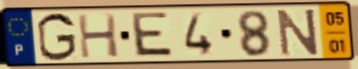4: (183, 12, 215, 57)
8: (234, 8, 272, 58)
E: (131, 11, 176, 60)
G: (35, 11, 78, 63)
H: (75, 12, 122, 60)
N: (275, 7, 322, 58)
